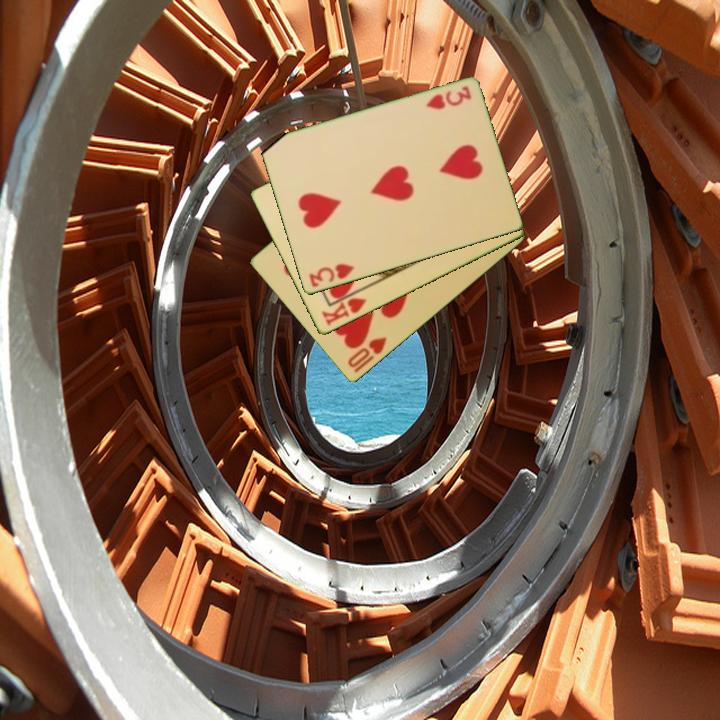10h: (344, 334, 390, 376)
3h: (305, 260, 357, 291), (422, 83, 474, 113)
Kh: (318, 287, 369, 329)
